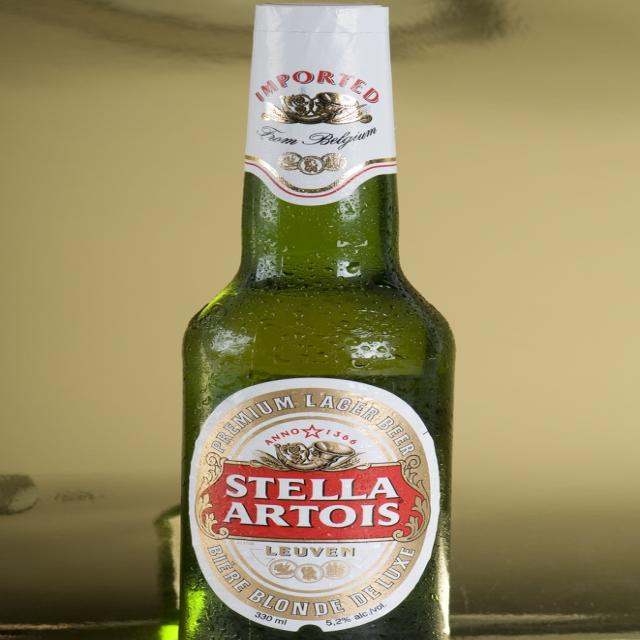stellaartois: (192, 388, 433, 622)
